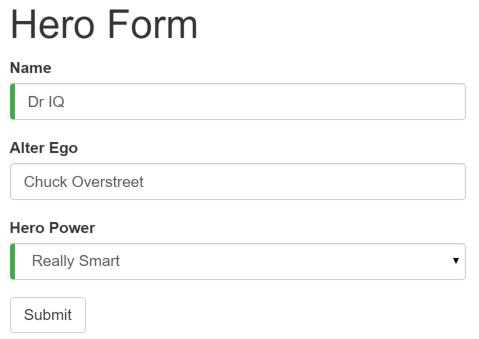button: (11, 298, 88, 332)
dropdown: (13, 246, 465, 280)
input: (13, 163, 467, 202), (11, 84, 468, 120)
label: (10, 217, 97, 235), (9, 142, 81, 157), (10, 61, 55, 78)
